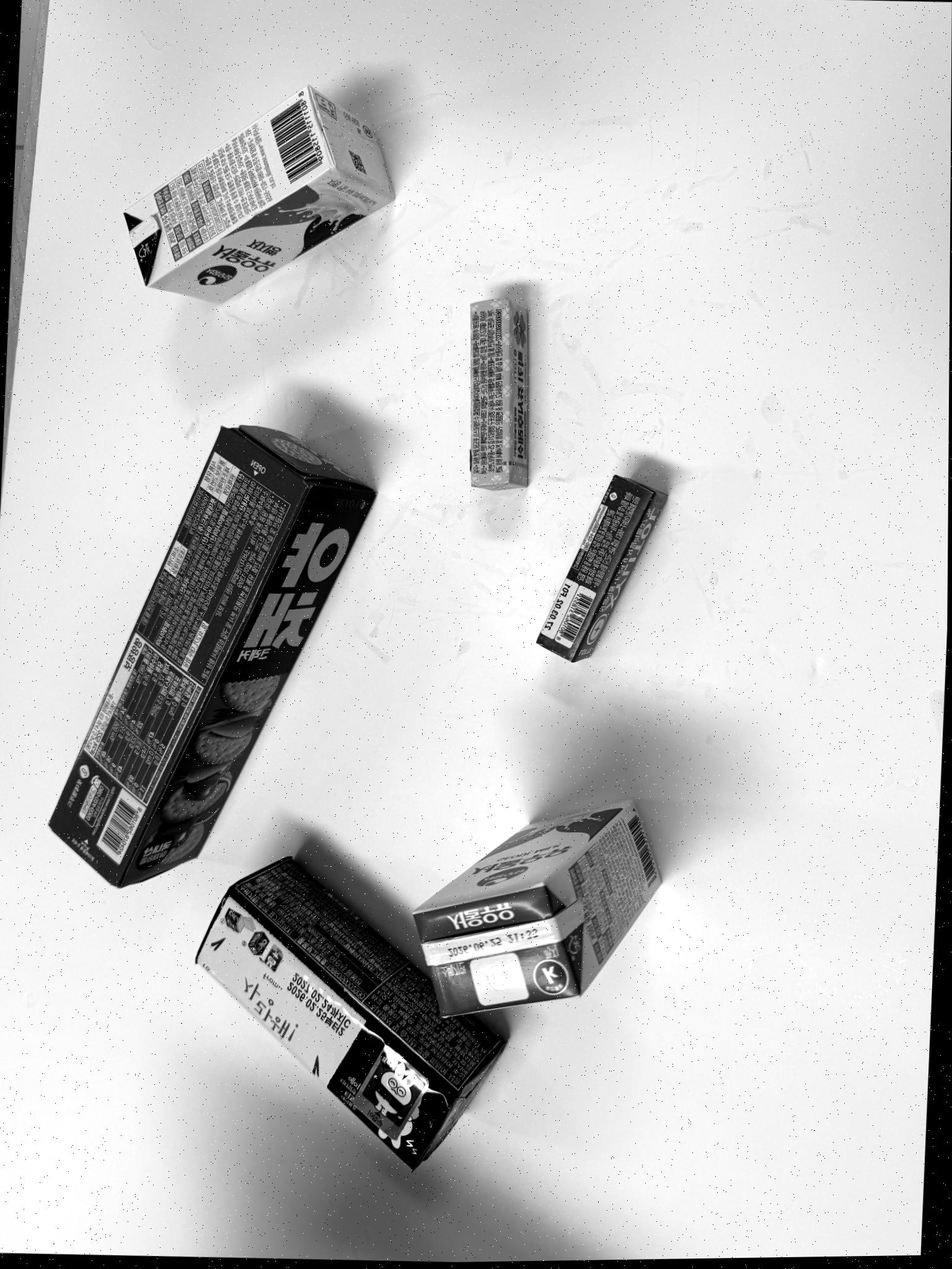cracker_ace: (196, 857, 503, 1168)
cracker_vege: (50, 426, 374, 886)
gum_green: (536, 469, 673, 664)
gum_yellow: (470, 299, 528, 489)
milk_blue: (125, 86, 394, 301)
milk_green: (411, 802, 670, 1018)
